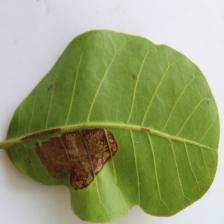leaf miner: (24, 125, 121, 188)
